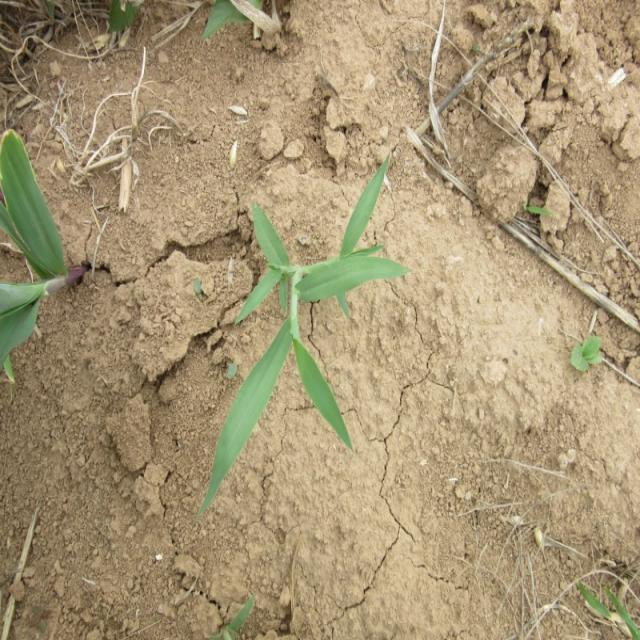bg: (202, 154, 392, 508)
